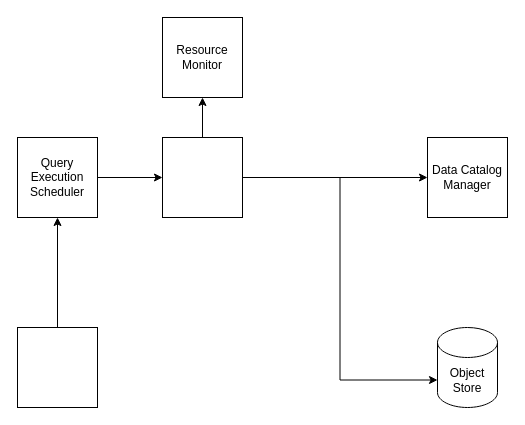
This 525x425 diagram has some shape labels left out. Each missing label, with the centre of its shape:
Client: (57,367)
Worker Cluster: (202,177)
